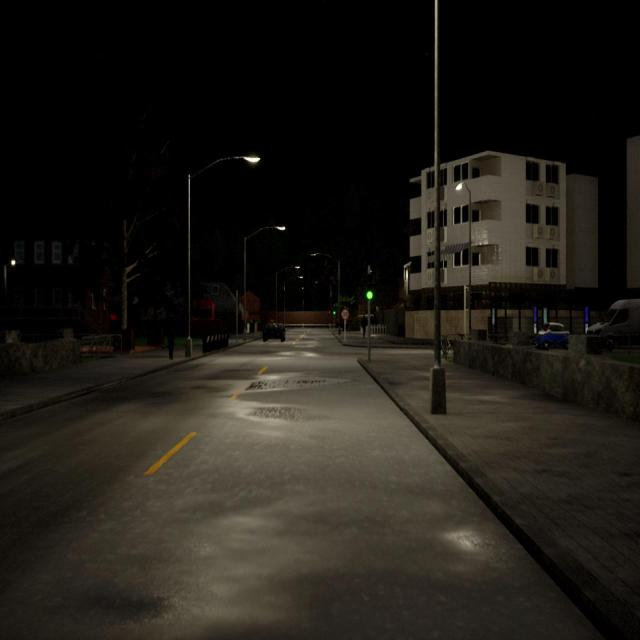Pedestrian: (164, 299, 178, 359), (360, 313, 368, 339)
Traffic_Signs: (342, 309, 349, 320)
Vehicle: (585, 299, 640, 351), (536, 322, 570, 349), (262, 318, 285, 342)
traffic_light: (366, 274, 374, 300), (466, 291, 472, 308), (333, 306, 336, 316), (328, 310, 331, 317)
